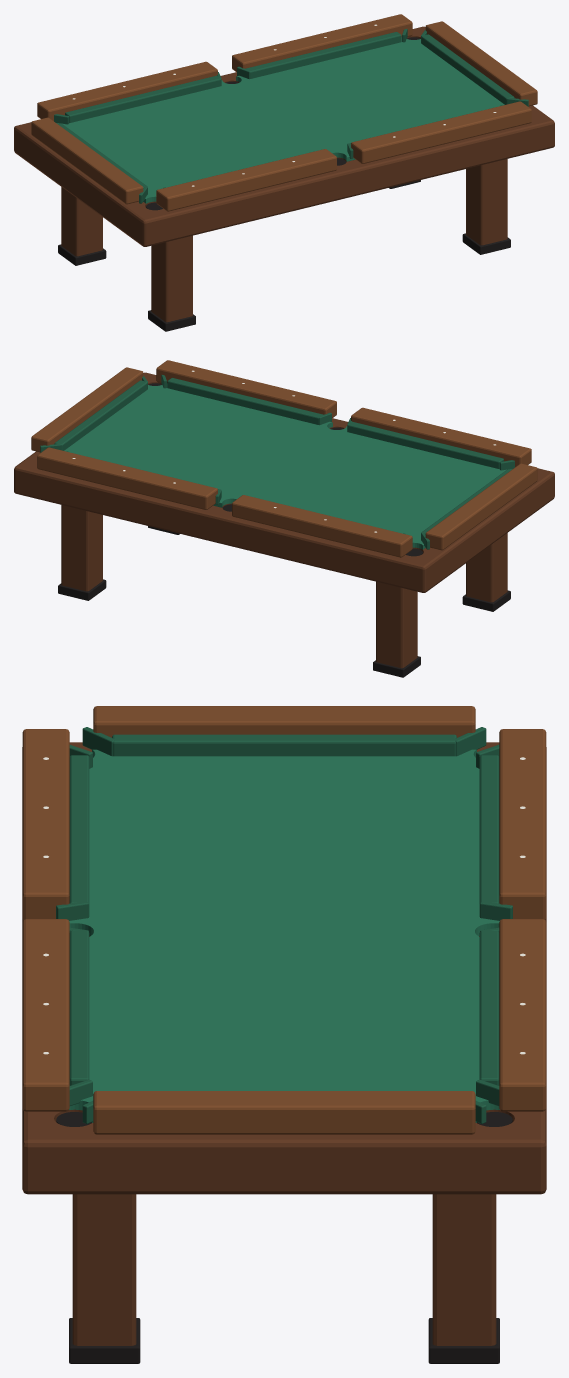
Rendered from table.glb.
3 views of the same model, one above another, from view 1: azimuth 30°, elevation 25°; view 2: azimuth 150°, elevation 25°; view 3: azimuth 270°, elevation 25° (orthographic). The views are drawn at different scales.
Visible parts, largest first — view 1: Table | slate and green cloth, Table | solid walnut cabinet, Long rail, Long rail.001, Table leg.002, Table leg, End rail, Long rail.003, Long rail.002, End rail.001, Table leg.001, Cushion.002 (+5 smaller); view 2: Table | slate and green cloth, Table | solid walnut cabinet, Long rail.002, Long rail.003, Table leg.003, Table leg.001, End rail, Long rail.001, Long rail, End rail.001, Table leg, Cushion (+5 smaller); view 3: Table | slate and green cloth, Table | solid walnut cabinet, End rail.001, End rail, Table leg.002, Table leg.003, Long rail.001, Long rail.003, Long rail, Long rail.002, Cushion.004, Cushion.001 (+5 smaller).
Boxes of the visible parts, x1,y1,x2,y2 form: Table | slate and green cloth: [62, 37, 504, 203]; Table | solid walnut cabinet: [14, 26, 554, 246]; Long rail: [156, 149, 336, 211]; Long rail.001: [351, 101, 531, 163]; Table leg.002: [466, 159, 507, 245]; Table leg: [151, 235, 192, 322]; End rail: [31, 117, 143, 204]; Long rail.003: [232, 14, 412, 72]; Long rail.002: [37, 61, 217, 120]; End rail.001: [425, 21, 537, 106]; Table leg.001: [61, 187, 102, 256]; Cushion.002: [65, 75, 221, 122]; Table | slate and green cloth: [64, 383, 506, 549]; Table | solid walnut cabinet: [14, 372, 554, 592]; Long rail.002: [232, 495, 412, 557]; Long rail.003: [37, 447, 217, 509]; Table leg.003: [61, 505, 102, 591]; Table leg.001: [376, 581, 417, 668]; End rail: [425, 463, 537, 550]; Long rail.001: [156, 360, 336, 418]; Long rail: [351, 407, 531, 466]; End rail.001: [31, 367, 143, 452]; Table leg: [466, 533, 507, 602]; Cushion: [347, 421, 503, 468]; Table | slate and green cloth: [69, 749, 499, 1122]; Table | solid walnut cabinet: [22, 742, 546, 1194]; End rail.001: [93, 1091, 475, 1134]; End rail: [93, 706, 475, 737]; Table leg.002: [72, 1194, 136, 1345]; Table leg.003: [432, 1194, 496, 1345]; Long rail.001: [22, 919, 69, 1111]; Long rail.003: [499, 919, 546, 1111]; Long rail: [22, 729, 69, 919]; Long rail.002: [499, 729, 546, 919]; Cushion.004: [112, 734, 456, 756]; Cushion.001: [69, 931, 89, 1085].
Bounding box in the file's own units: 2.54 × 0.8536 × 1.4.
